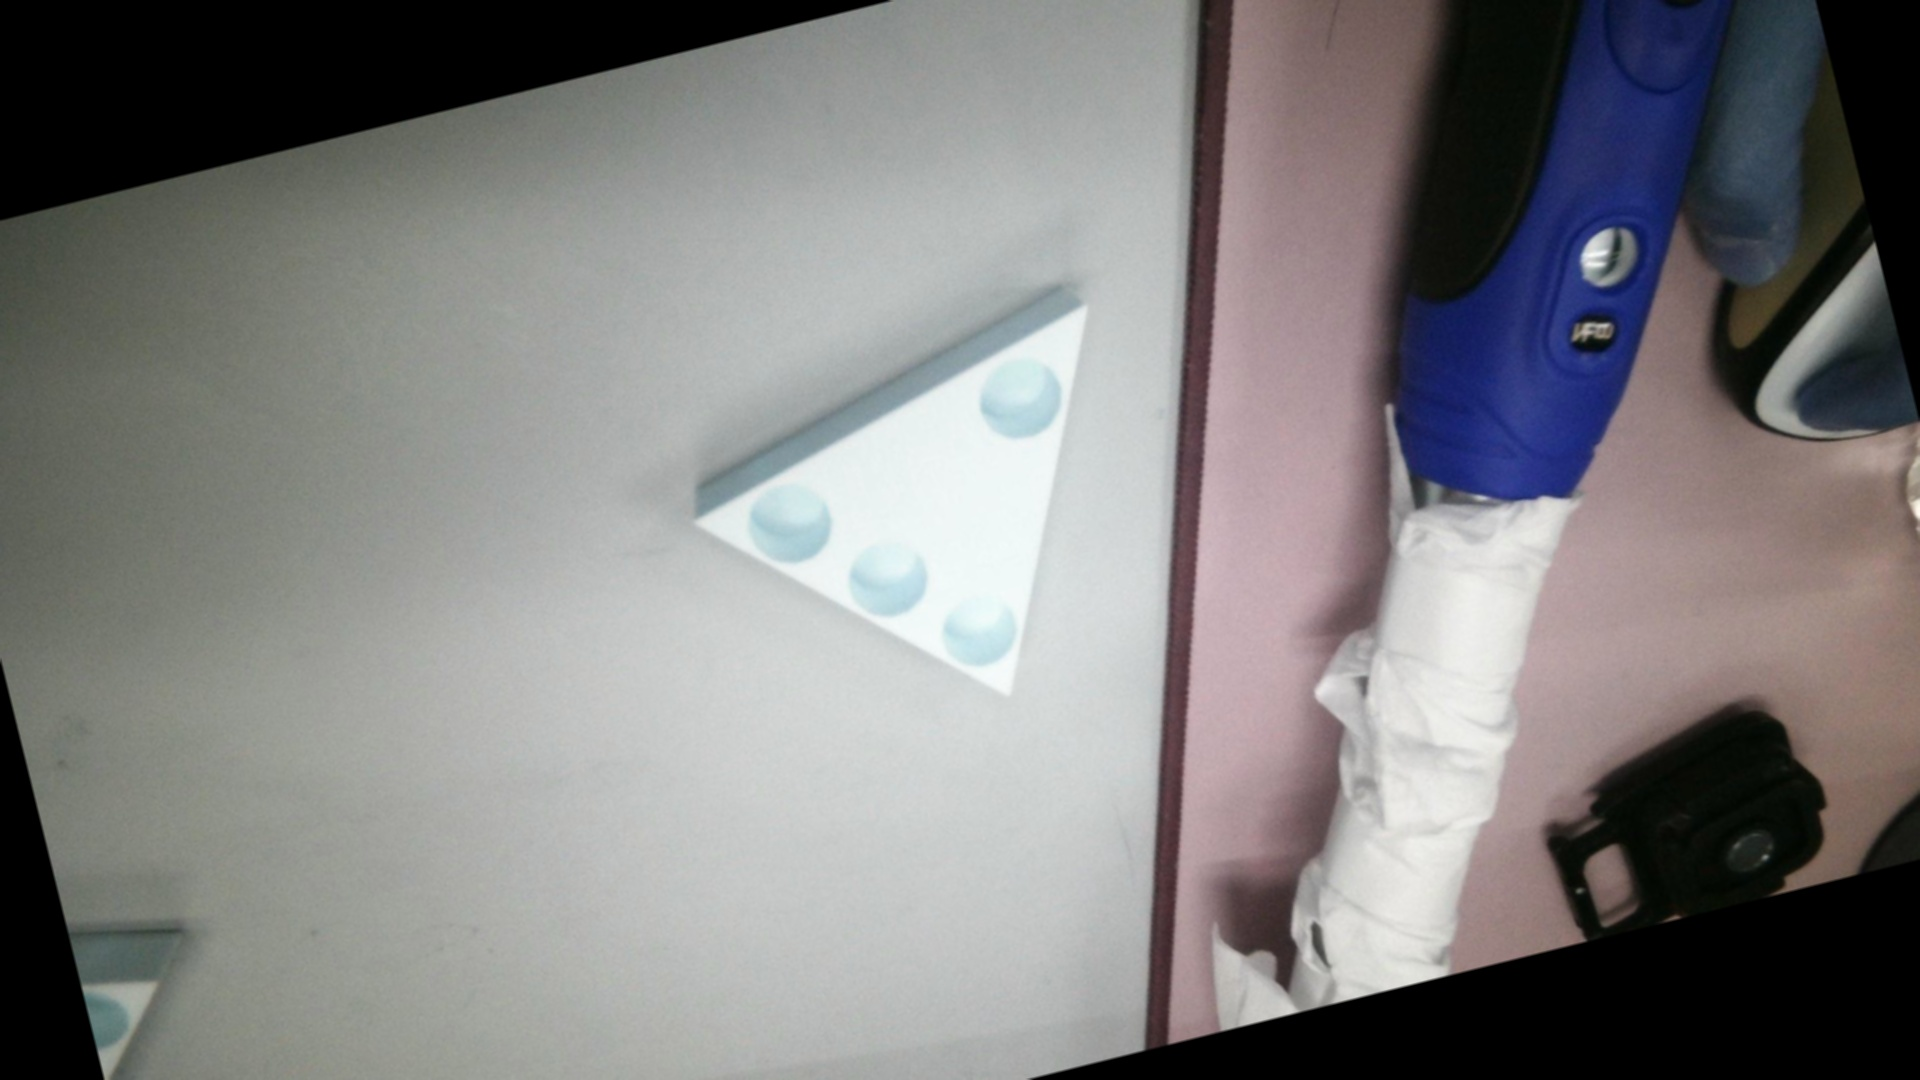hole: (963, 334, 1077, 455), (731, 465, 837, 571), (833, 526, 934, 622), (931, 579, 1029, 675)
obj: (638, 251, 1185, 774)
